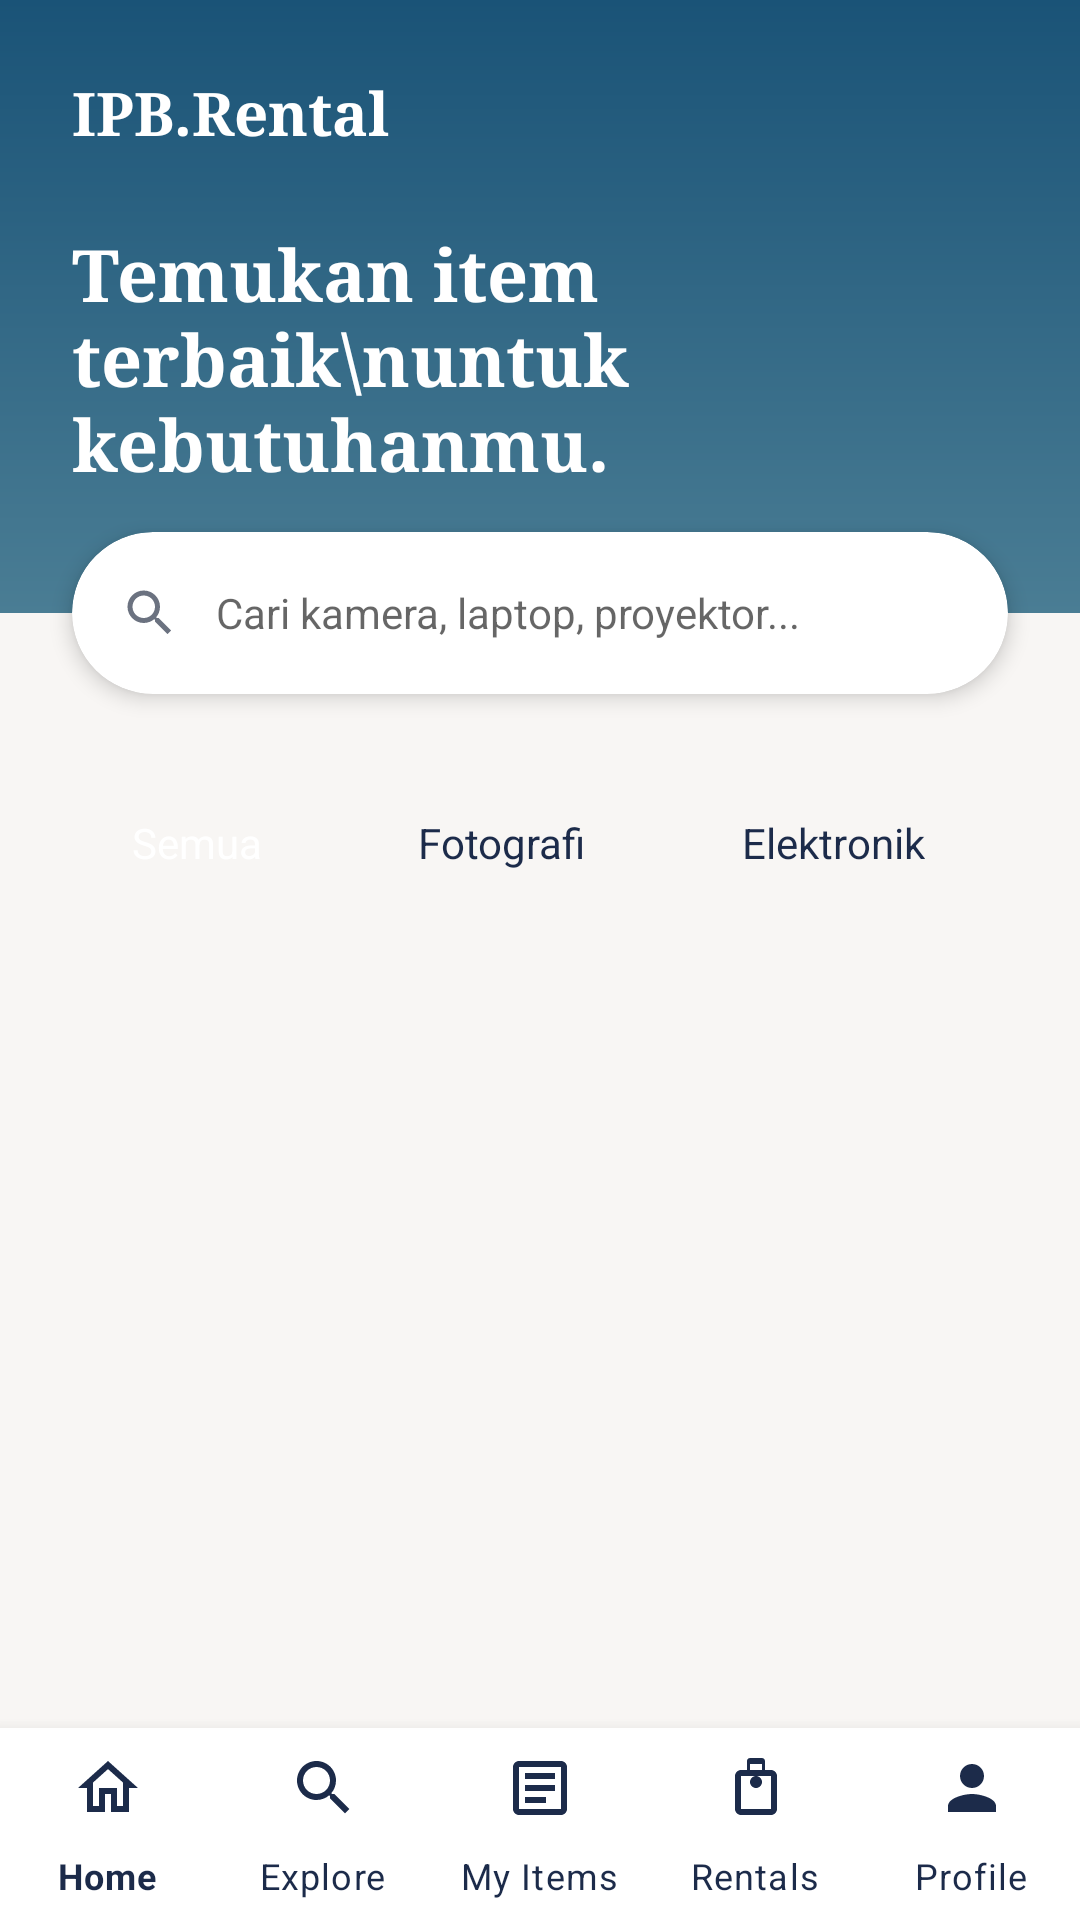

Named icons in this screenshot (1080 × 1920) and their bounding boxes, detection(x1, y1, x2, y2):
search: detection(127, 590, 171, 634)
